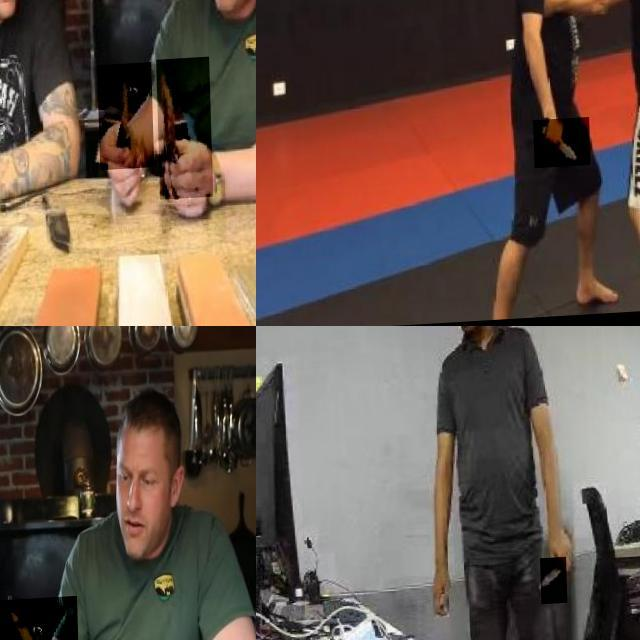-: (154, 62, 210, 204), (96, 67, 152, 174), (0, 600, 77, 640), (530, 122, 588, 172), (537, 562, 564, 608)
